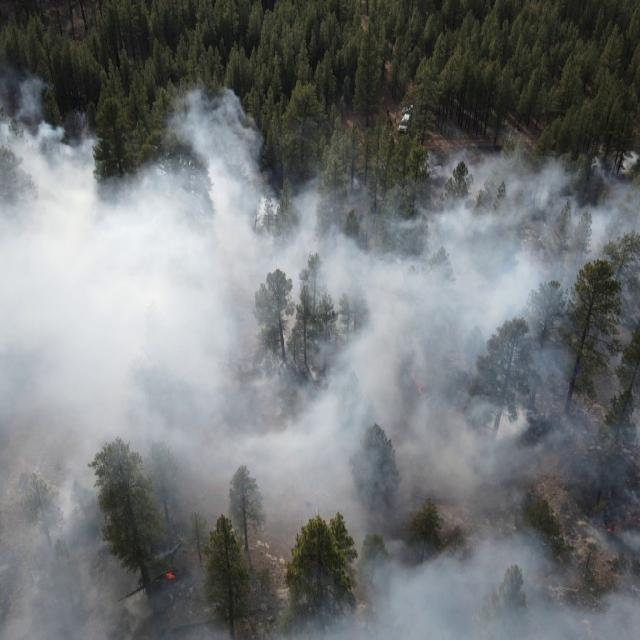fire: (408, 377, 436, 407), (158, 560, 182, 591), (600, 520, 618, 542), (628, 507, 640, 528)
smoke: (0, 127, 640, 640), (155, 81, 271, 130), (0, 72, 91, 126)
